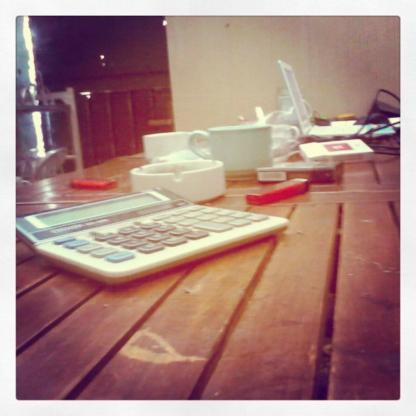board: (280, 58, 370, 139)
